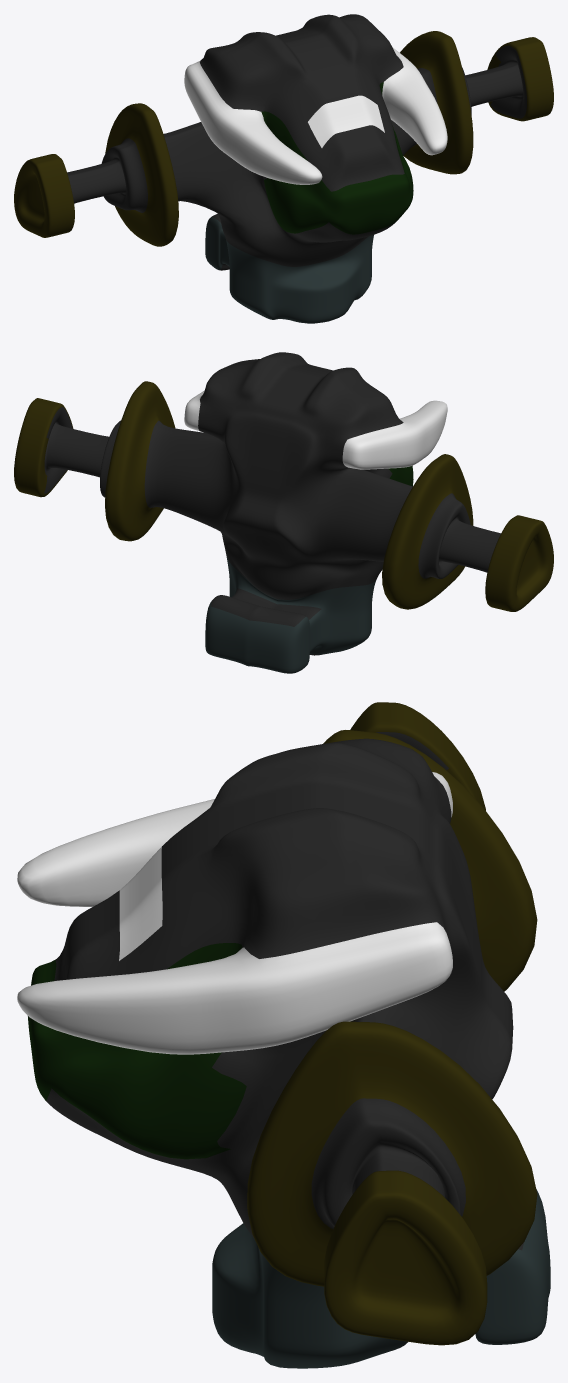
Rendered from coś_Tułów.fbx.
3 renders of one model, top to bottom at view 1: azimuth 30°, elevation 25°; view 2: azimuth 150°, elevation 25°; view 3: azimuth 270°, elevation 25°, orthographic. The views are drawn at different scales.
Visible parts, largest first — view 1: Cube; view 2: Cube; view 3: Cube.
Boxes of the visible parts, x1,y1,x2,y2 form: Cube: [14, 14, 553, 323]; Cube: [14, 352, 553, 673]; Cube: [17, 702, 550, 1368].
Bounding box in the file's own units: 4442 × 2324 × 2025.
